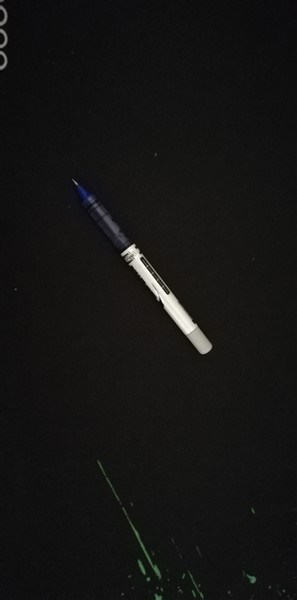pilot kalem: (65, 175, 215, 357)
